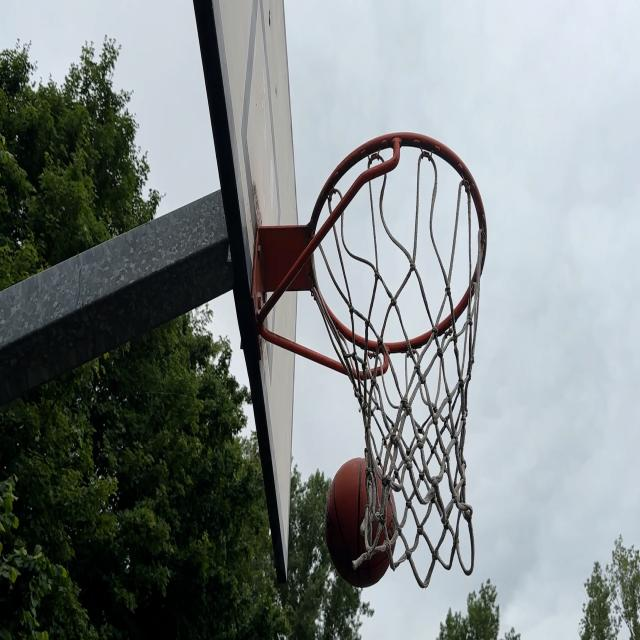Basketball: (327, 458, 398, 588)
